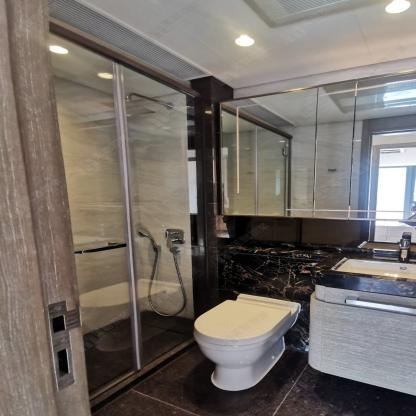Toilet: (190, 294, 302, 389)
Toilet Sink: (311, 251, 416, 298)
Water Cubicle: (50, 18, 195, 412)
